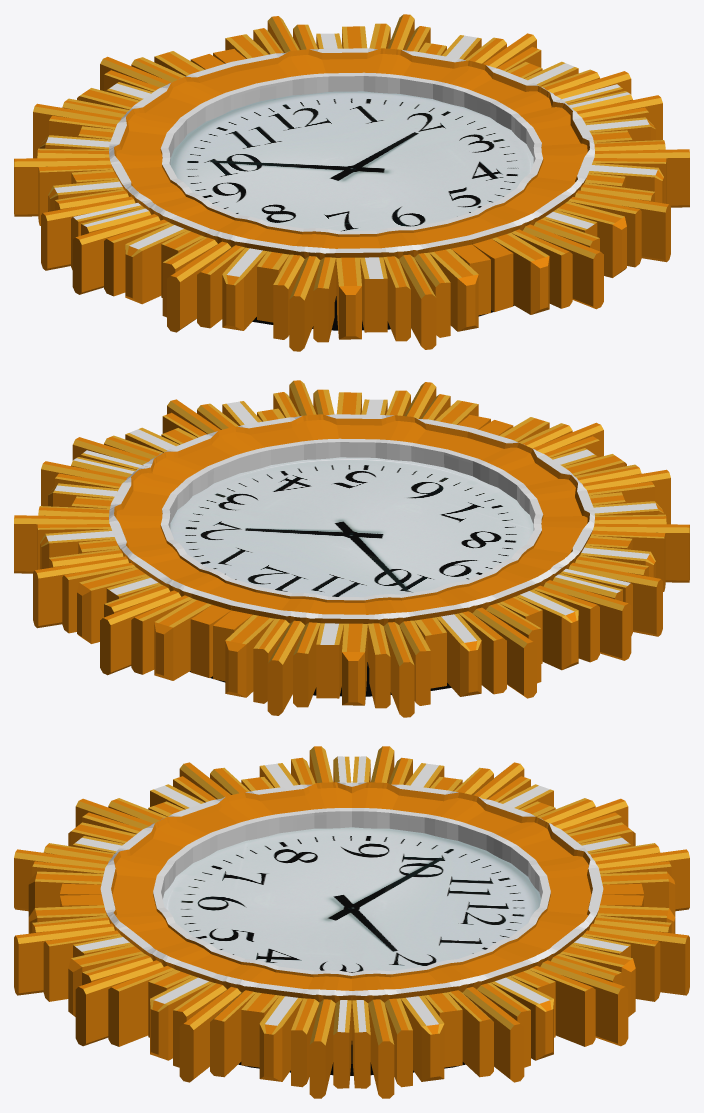
Rendered from Clock.fbx.
The picture shows the model from 3 angles, top to bottom: view 1: azimuth 30°, elevation 25°; view 2: azimuth 150°, elevation 25°; view 3: azimuth 270°, elevation 25°; orthographic projection. The views are drawn at different scales.
Parts seen in each view (by area): view 1: Cylinder.002, Circle.002; view 2: Cylinder.002, Circle.002; view 3: Cylinder.002, Circle.002.
Part boxes in pixels (bbox=[...]): Cylinder.002: bbox=[14, 14, 689, 351]; Circle.002: bbox=[170, 91, 533, 231]; Cylinder.002: bbox=[14, 380, 689, 717]; Circle.002: bbox=[170, 457, 533, 597]; Cylinder.002: bbox=[14, 746, 689, 1098]; Circle.002: bbox=[163, 827, 540, 972].
Size of the model in its own units: 286 by 35.22 by 276.
